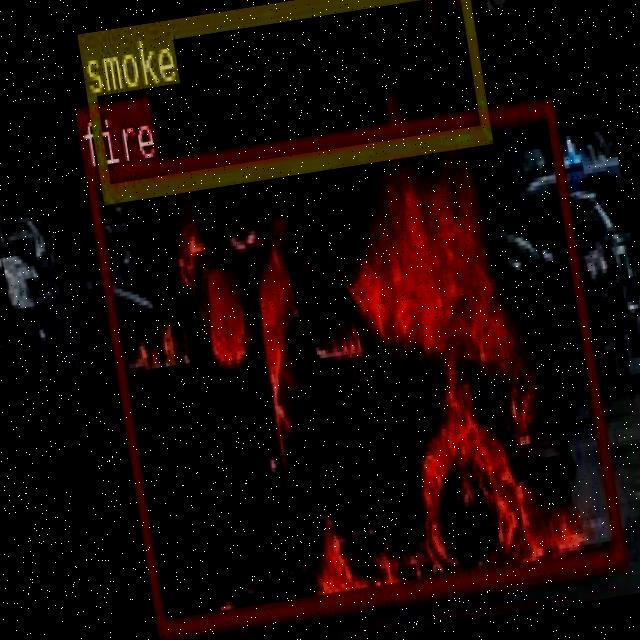fire: (83, 96, 624, 634)
smoke: (74, 0, 489, 201)
